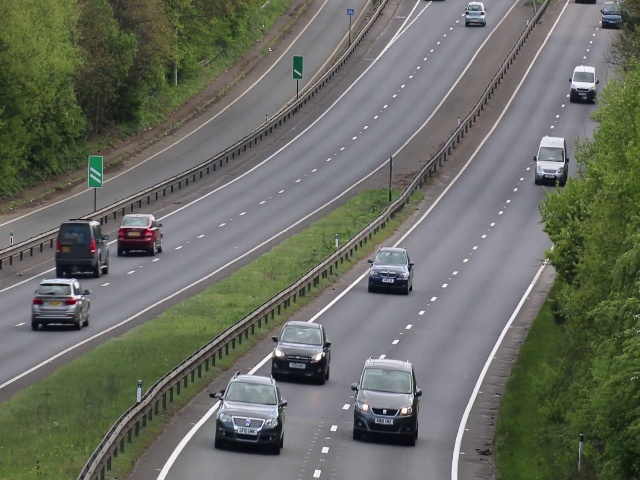car: (352, 353, 420, 447), (212, 373, 287, 455), (269, 320, 330, 382), (31, 276, 89, 336), (57, 219, 109, 281), (366, 244, 415, 296), (117, 212, 168, 258), (534, 135, 569, 188), (572, 67, 597, 104), (462, 1, 489, 29)
